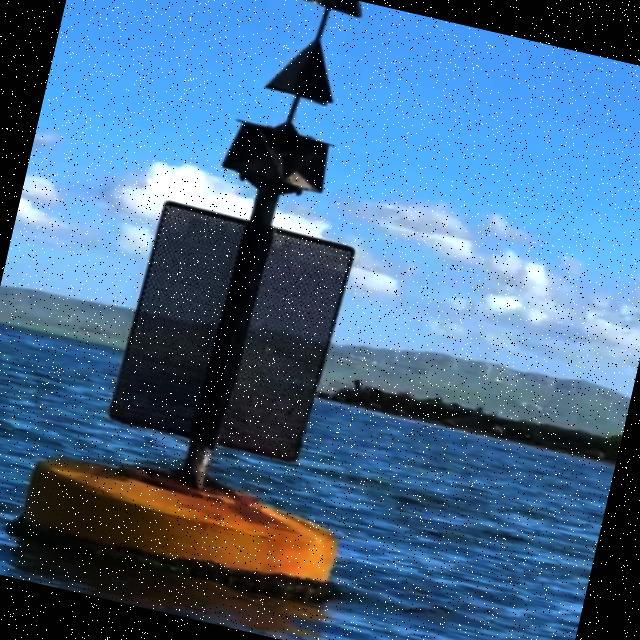marque: (5, 1, 464, 607)
